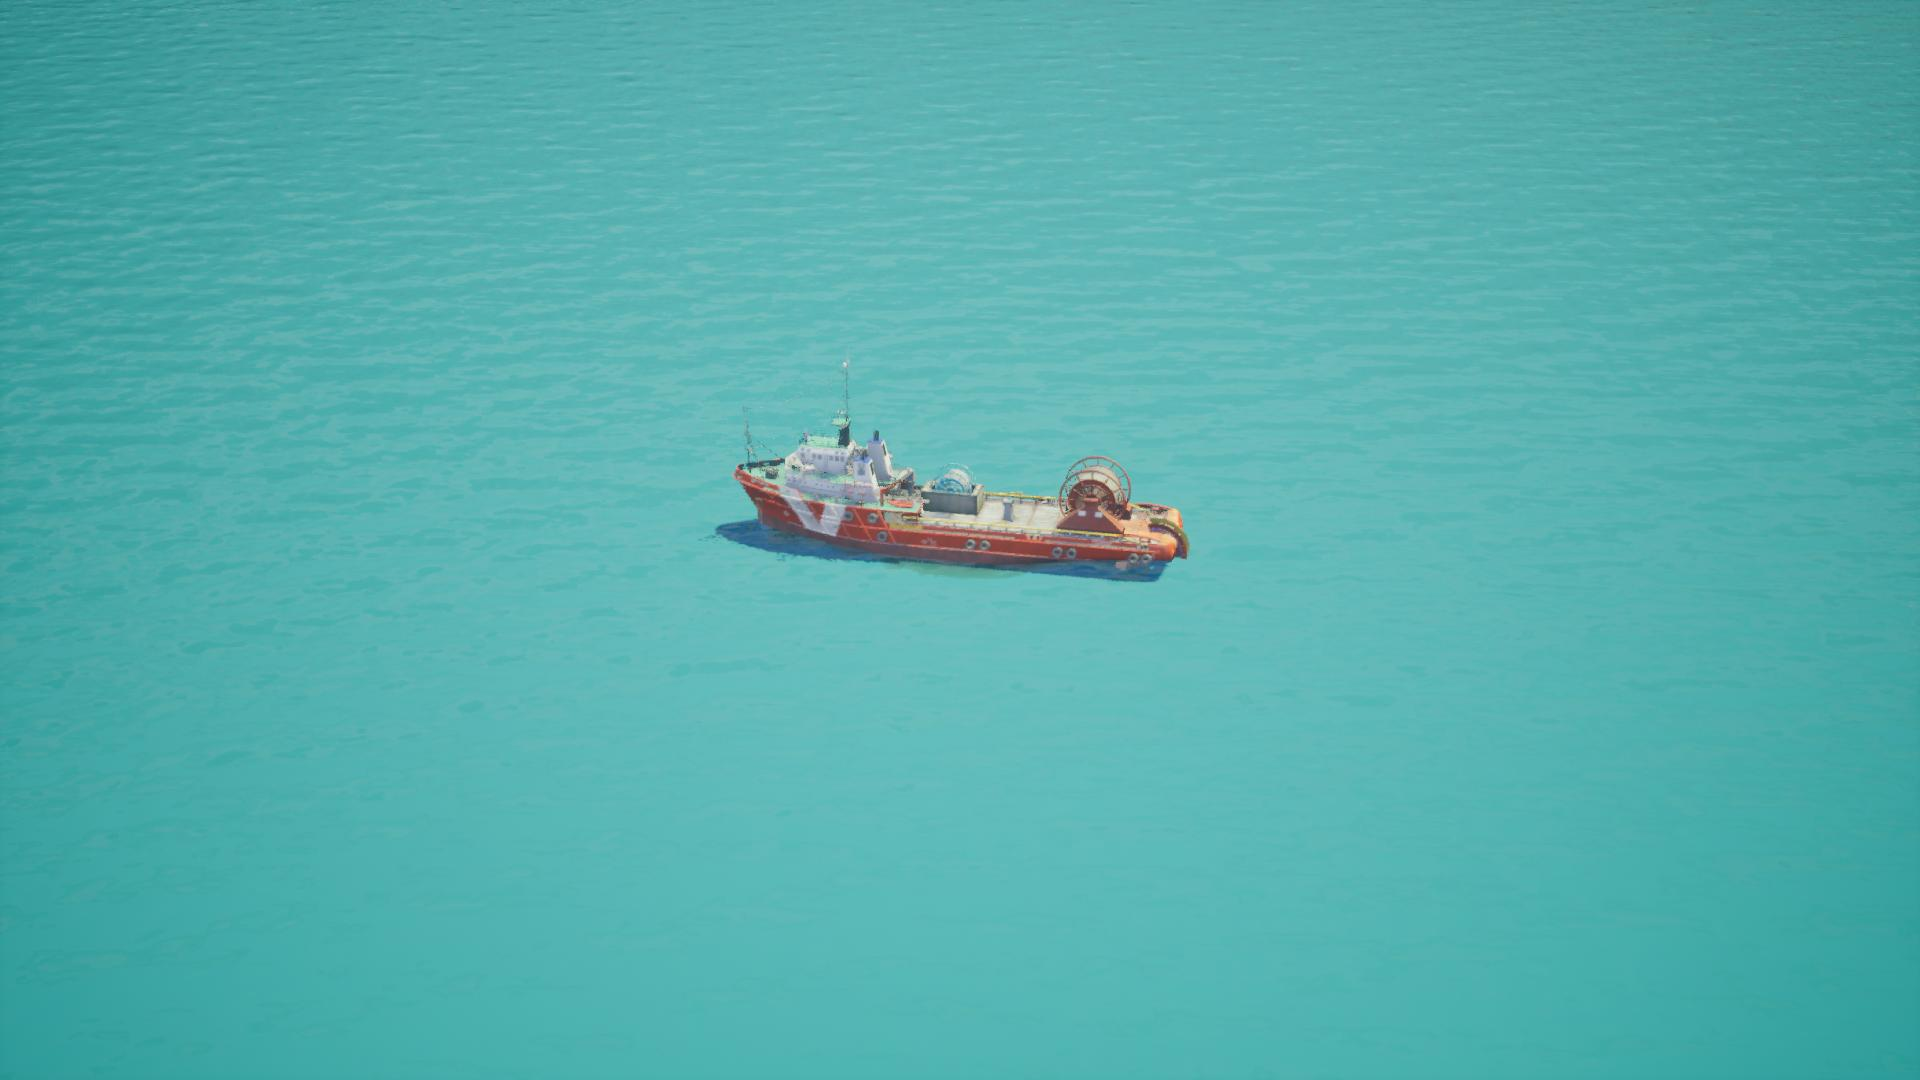Tug Boat: (723, 356, 1200, 582)
